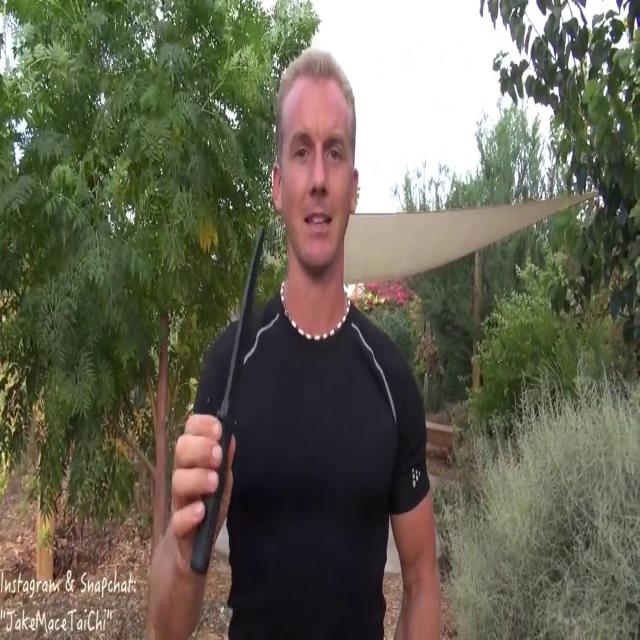knife: (165, 214, 278, 576)
